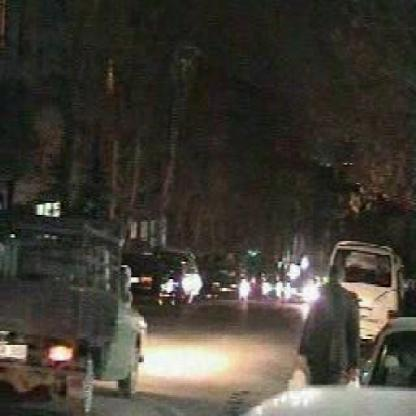other: (230, 246, 324, 307), (147, 336, 224, 379), (168, 262, 207, 300)
